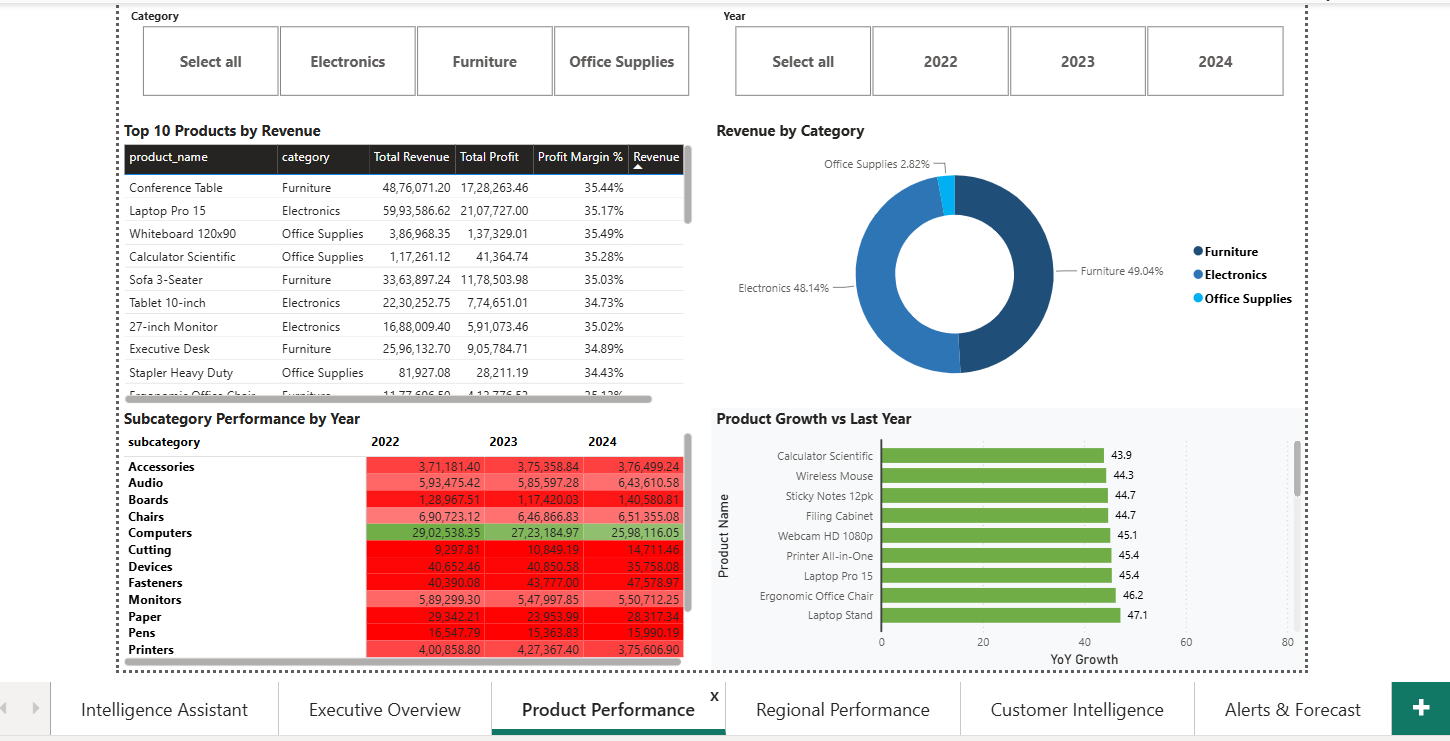

The dashboard page shown, as its layout file describes it:
{"tool":"powerbi","page":{"name":"Product Performance","canvas":[1280,720],"ordinal":2},"visuals":[{"type":"tableEx","title":"Top 10 Products by Revenue","fields":{"Values":["Dim_Product.product_name","Dim_Product.category","Fact_Sales.Total Revenue","Fact_Sales.Total Profit","Fact_Sales.Profit Margin %","Dim_Product.Revenue Rank"]},"box":[0,126.3,623.4,310.9],"z":0},{"type":"donutChart","title":"Revenue by Category","fields":{"Category":["Dim_Product.category"],"Y":["Fact_Sales.Total Revenue"]},"box":[639.6,126.3,641.2,310.9],"z":1000},{"type":"pivotTable","title":"Subcategory Performance by Year","fields":{"Rows":["Dim_Product.subcategory"],"Columns":["Dim_Date.year"],"Values":["Fact_Sales.Total Revenue"]},"box":[0,437.2,623.4,283.4],"z":2000},{"type":"clusteredBarChart","title":"Product Growth vs Last Year","fields":{"Category":["Dim_Product.product_name"],"Y":["Fact_Sales.YoY Growth"]},"box":[639.6,437.2,641.2,283.4],"z":3000},{"type":"slicer","fields":{"Values":["Dim_Product.category"]},"box":[0,0,639.6,106.9],"z":4000},{"type":"slicer","fields":{"Values":["Dim_Date.year"]},"box":[639.6,0,641.2,106.9],"z":5000}]}

Visuals, with their boxes on the page's 1280x720 design canvas (x1, y1, x2, y2). These are canvas units, not pixel positions in the 1450x741 screenshot, which may show the page scaled, cropped or inside an application window:
"Top 10 Products by Revenue" tableEx: 0, 126, 623, 437
"Revenue by Category" donutChart: 640, 126, 1281, 437
"Subcategory Performance by Year" pivotTable: 0, 437, 623, 721
"Product Growth vs Last Year" clusteredBarChart: 640, 437, 1281, 721
slicer - Dim_Product.category: 0, 0, 640, 107
slicer - Dim_Date.year: 640, 0, 1281, 107
